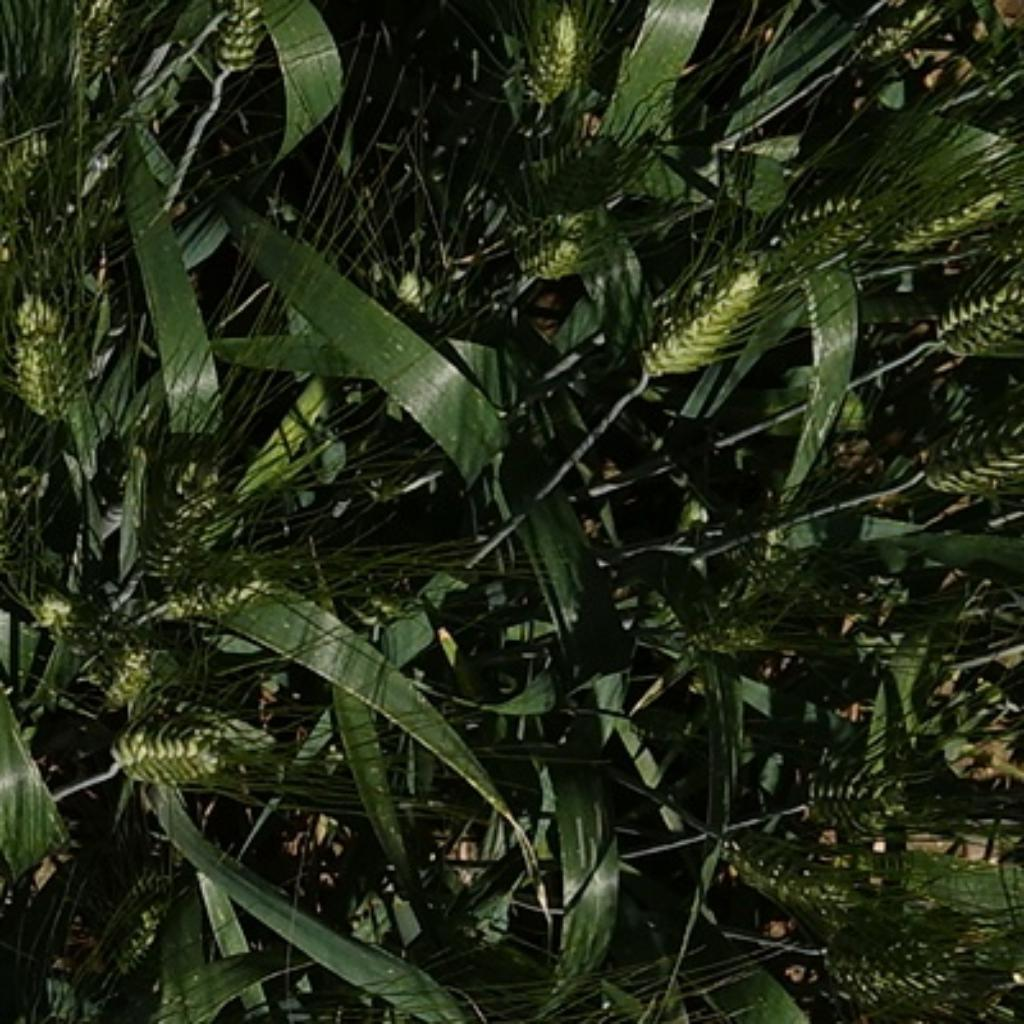0-0: (629, 238, 773, 381), (716, 813, 867, 926), (870, 172, 1024, 266), (147, 441, 244, 590), (816, 929, 983, 1010), (774, 186, 919, 276), (161, 532, 289, 624), (0, 285, 86, 417), (64, 622, 174, 716), (919, 256, 1024, 353), (97, 714, 244, 783), (796, 740, 903, 834), (909, 409, 1024, 494), (94, 873, 172, 979), (61, 3, 144, 99), (2, 122, 73, 234), (508, 207, 594, 292), (523, 2, 601, 95), (10, 576, 99, 655), (192, 2, 281, 74), (687, 615, 774, 670)
